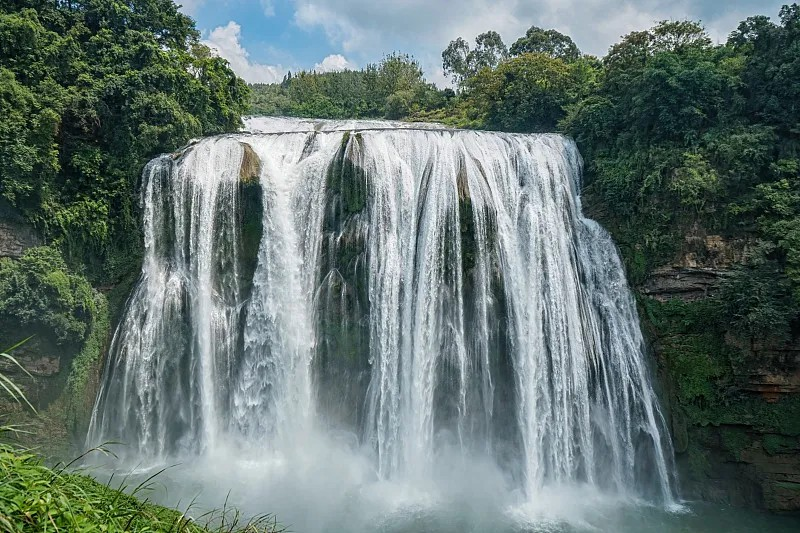Huangguoshu: (84, 117, 683, 516)
